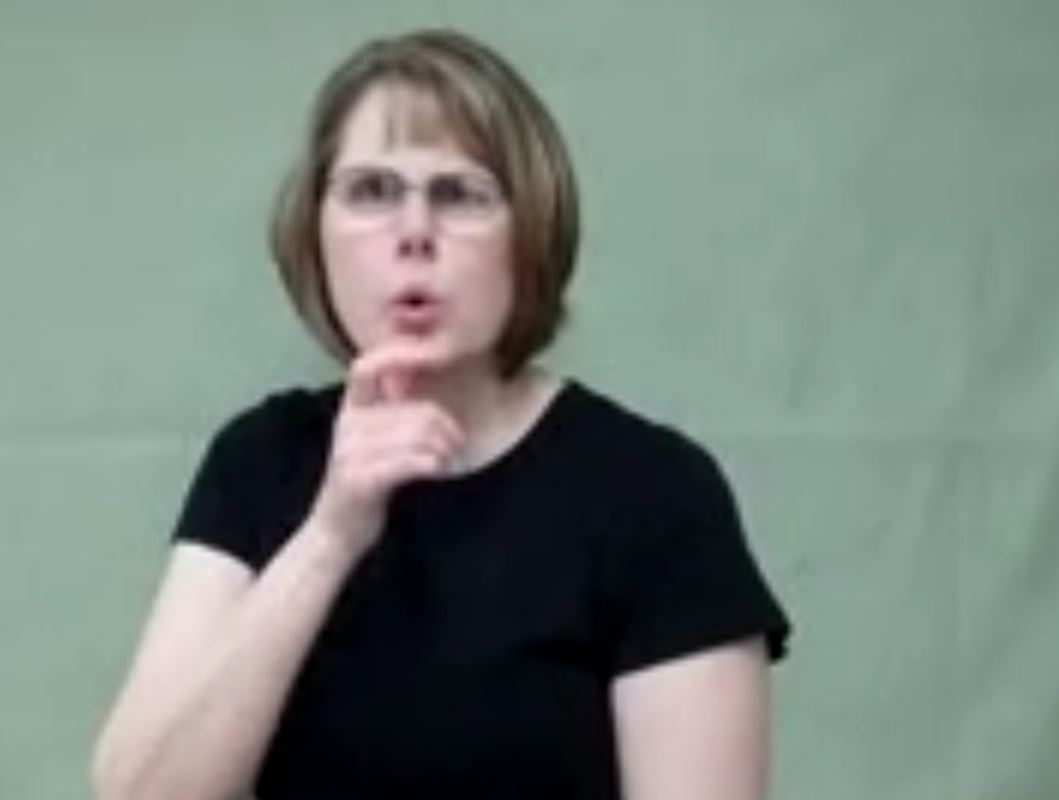who: (318, 323, 488, 501)
